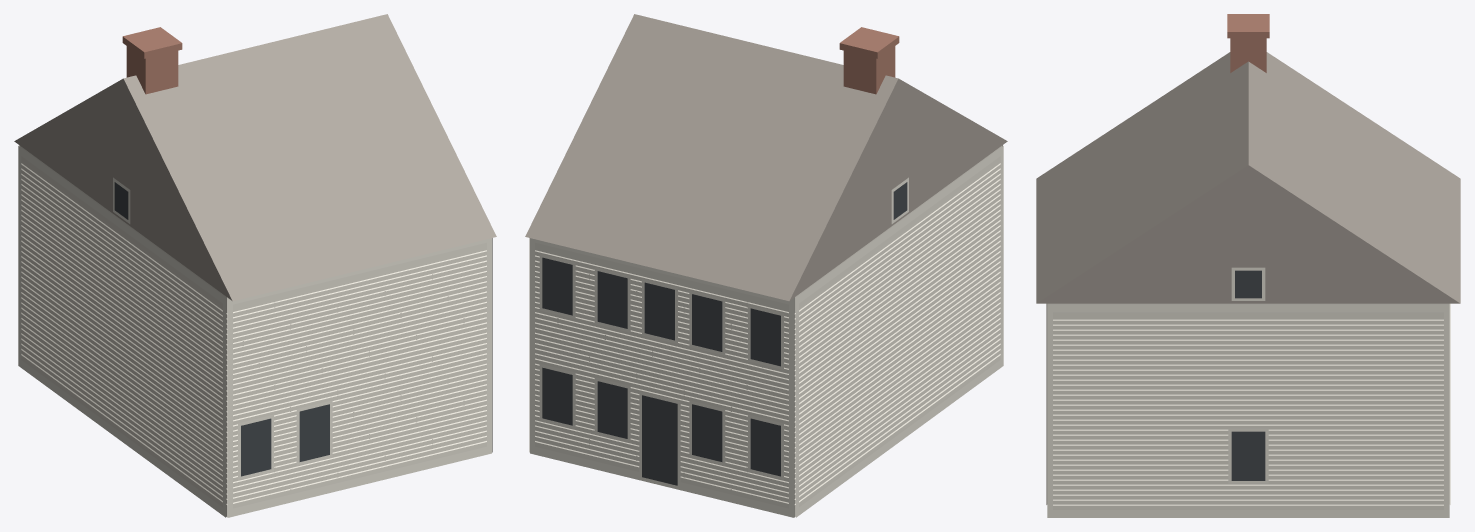
Rendered from recon_1835_north_d7_031__inferred_1835.glb.
3 views of the same model, side by side, from view 1: azimuth 30°, elevation 25°; view 2: azimuth 150°, elevation 25°; view 3: azimuth 270°, elevation 25° (orthographic). The views are drawn at different scales.
Parts seen in each view (by area): view 1: recon_1835_north_d7_031__inferred_1835; view 2: recon_1835_north_d7_031__inferred_1835; view 3: recon_1835_north_d7_031__inferred_1835.
Part boxes in pixels (x1,y1,x2,y2): recon_1835_north_d7_031__inferred_1835: (14, 14, 496, 517); recon_1835_north_d7_031__inferred_1835: (525, 14, 1007, 517); recon_1835_north_d7_031__inferred_1835: (1036, 14, 1460, 517).
Bounding box in the file's own units: 6.91 × 9.73 × 9.77.
